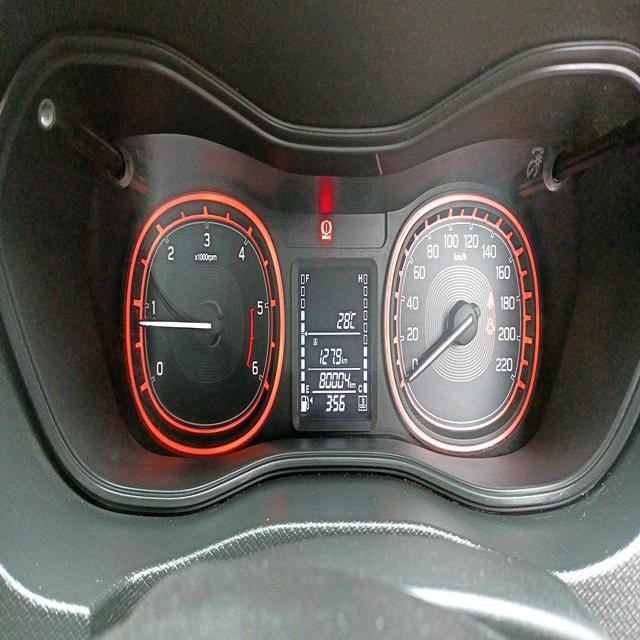odometer: (317, 370, 352, 389)
